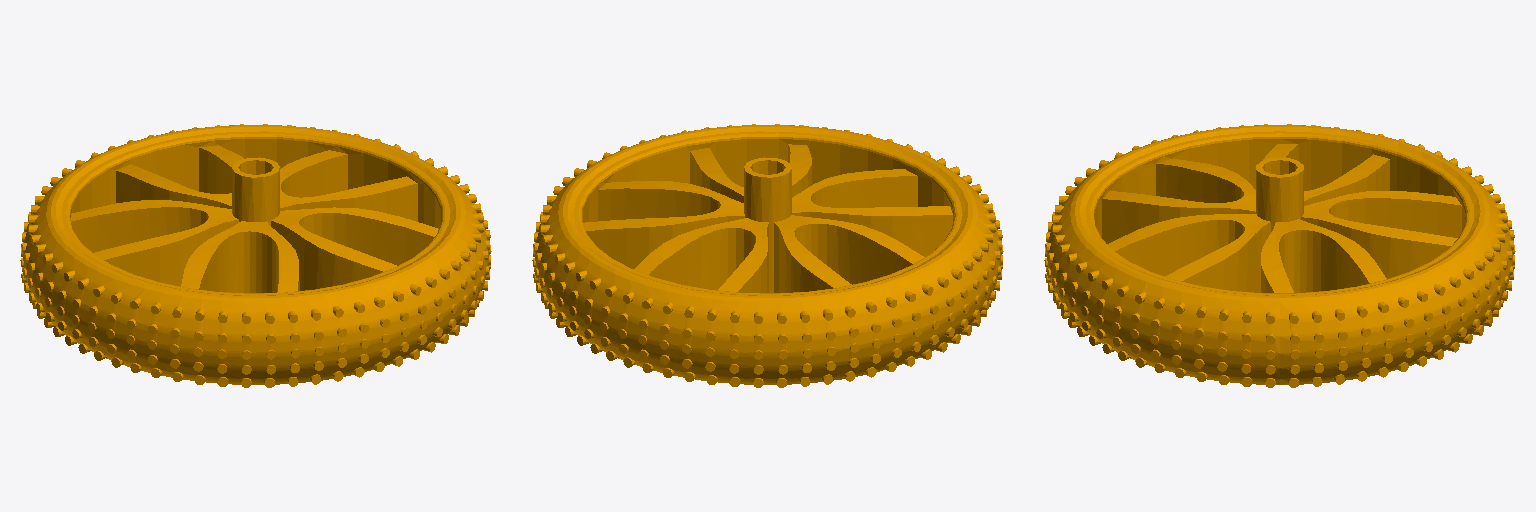
URDF robot description (wheel_base):
<?xml version="1.0"?>
<robot name="wheel_base">
    <link name="wheel_base">
        <visual>
            <geometry>
                <mesh filename="../mesh/wheel/wheel_base.obj" scale="1 1 1"/>
            </geometry>
        </visual>
        <collision>
            <geometry>
                <mesh filename="../mesh/wheel/wheel_base.obj" scale="1 1 1"/>
            </geometry>
            <sdf resolution="512"/>
        </collision>
    </link>
</robot>

--- Facts derived from the render (not from the file) ---
3 views of the same robot in one strip: view 1: azimuth 30°, elevation 25°; view 2: azimuth 150°, elevation 25°; view 3: azimuth 270°, elevation 25° (orthographic).
Model wheel_base with 1 links and 0 joints (none), rooted at wheel_base, posed every joint at zero.
Visible links, largest first — view 1: wheel_base; view 2: wheel_base; view 3: wheel_base.
Link boxes in pixels (x1,y1,x2,y2): wheel_base: (20, 124, 491, 387); wheel_base: (532, 124, 1003, 387); wheel_base: (1044, 124, 1515, 387).
Bounding box of the posed robot: 0.3677 × 0.3677 × 0.1581 m (x, y, z).
1 mesh visuals loaded from 1 distinct referenced files (1 OBJ).